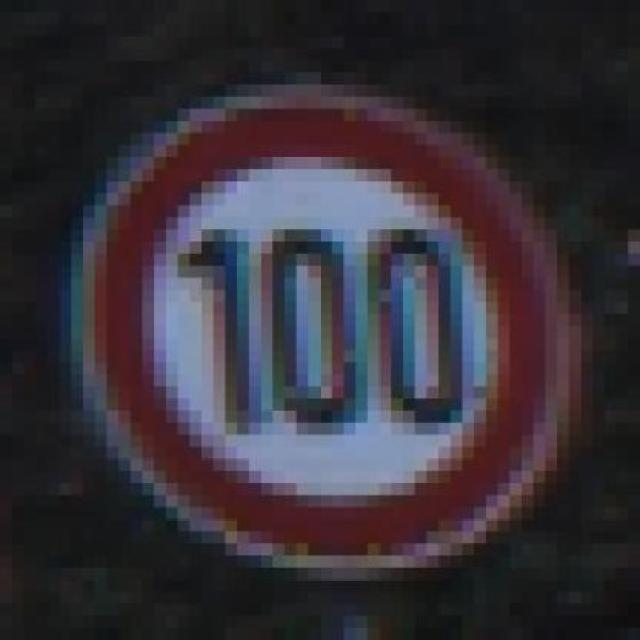forb_speed_over_100: (86, 101, 566, 561)
